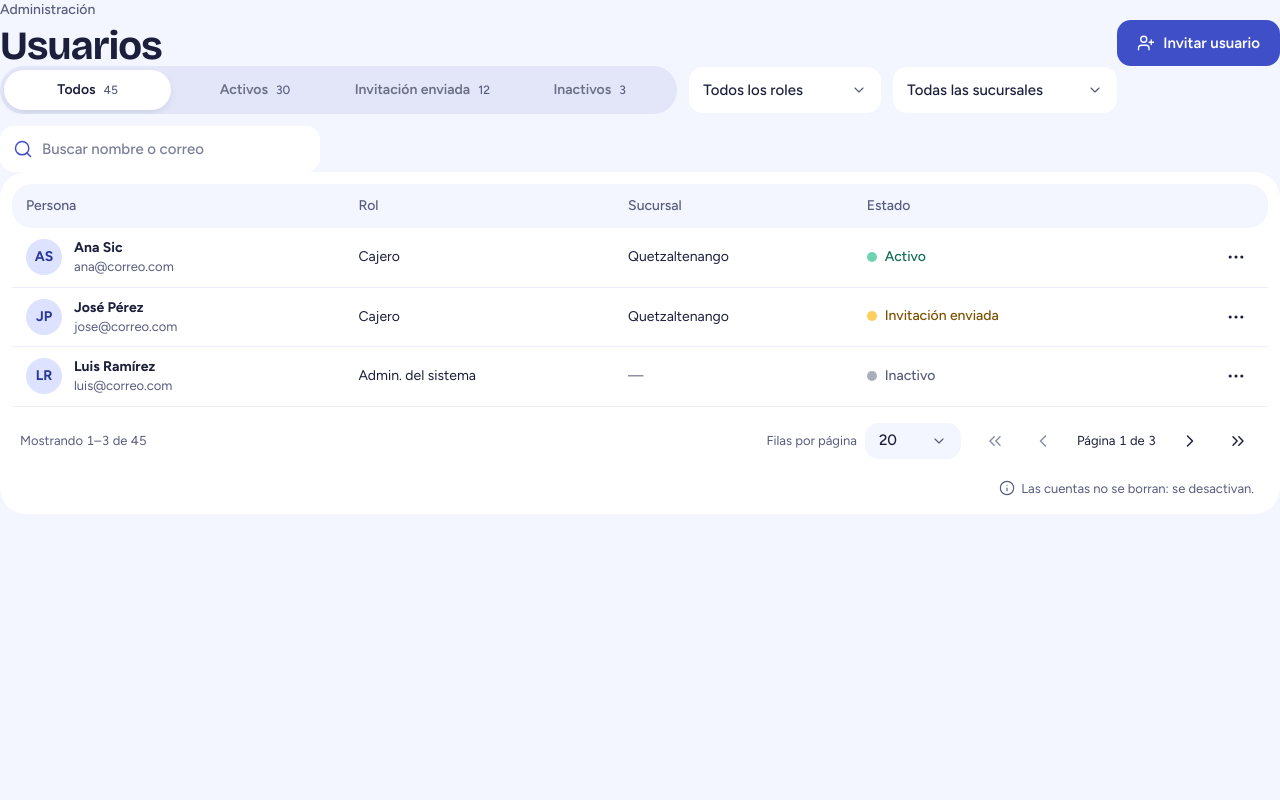
UsersScreen › lets a branch admin be invited to a closed branch
What coordinates should you click on to do the following:
click the button "Invitar usuario"
I would click on:
 (1199, 43)
Its box is [1117,20,1279,66].
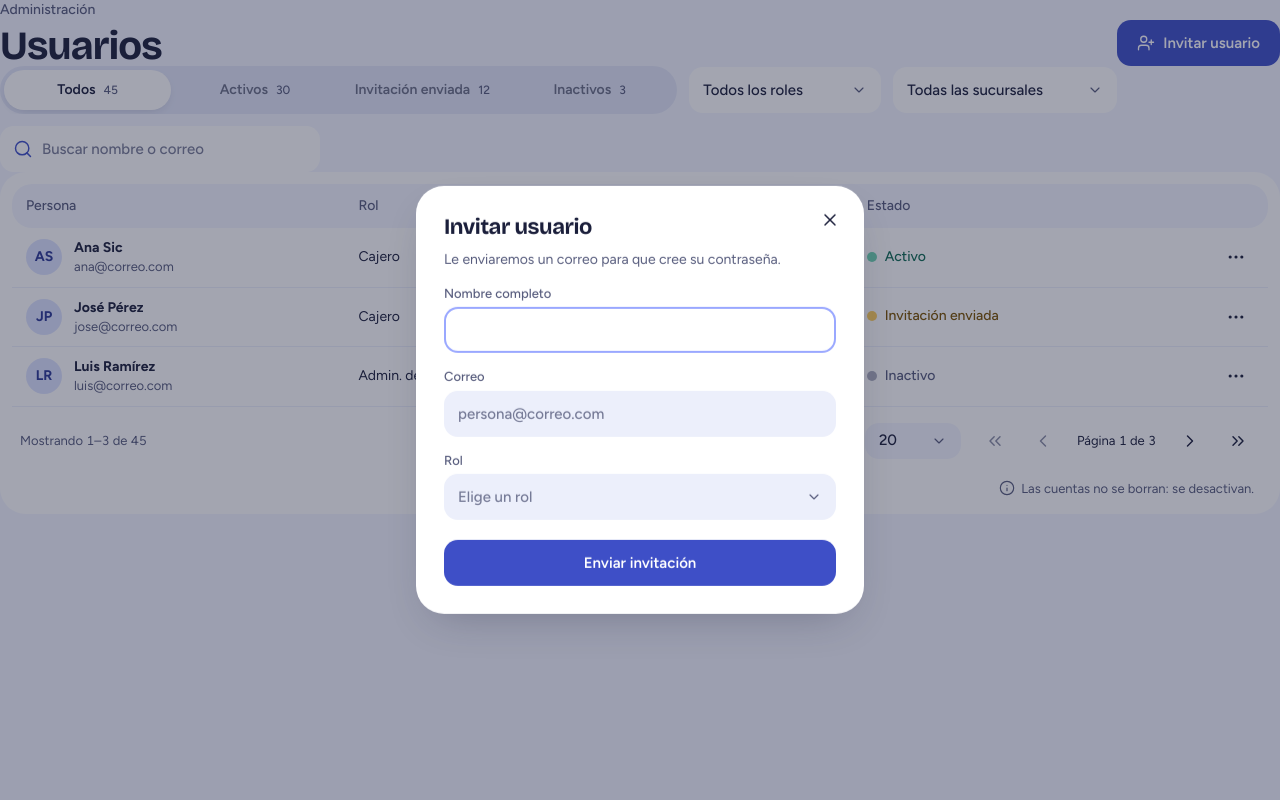
What coordinates should you click on to do the following:
click the dropdown labelled "rol"
I would click on:
 (495, 496)
Its box is [444,474,836,520].
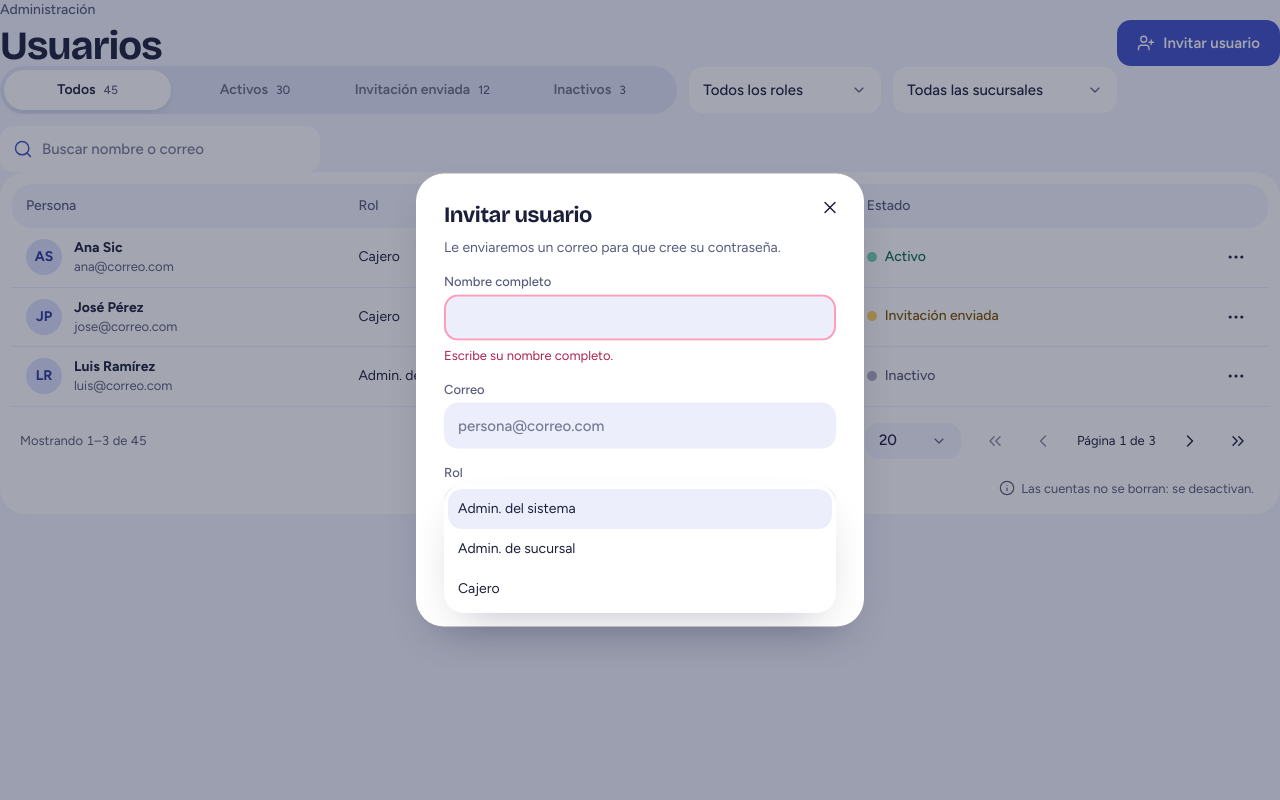
What coordinates should you click on to do the following:
click the option "Admin. de sucursal"
I would click on:
 (517, 549)
Its box is [458,540,575,557].
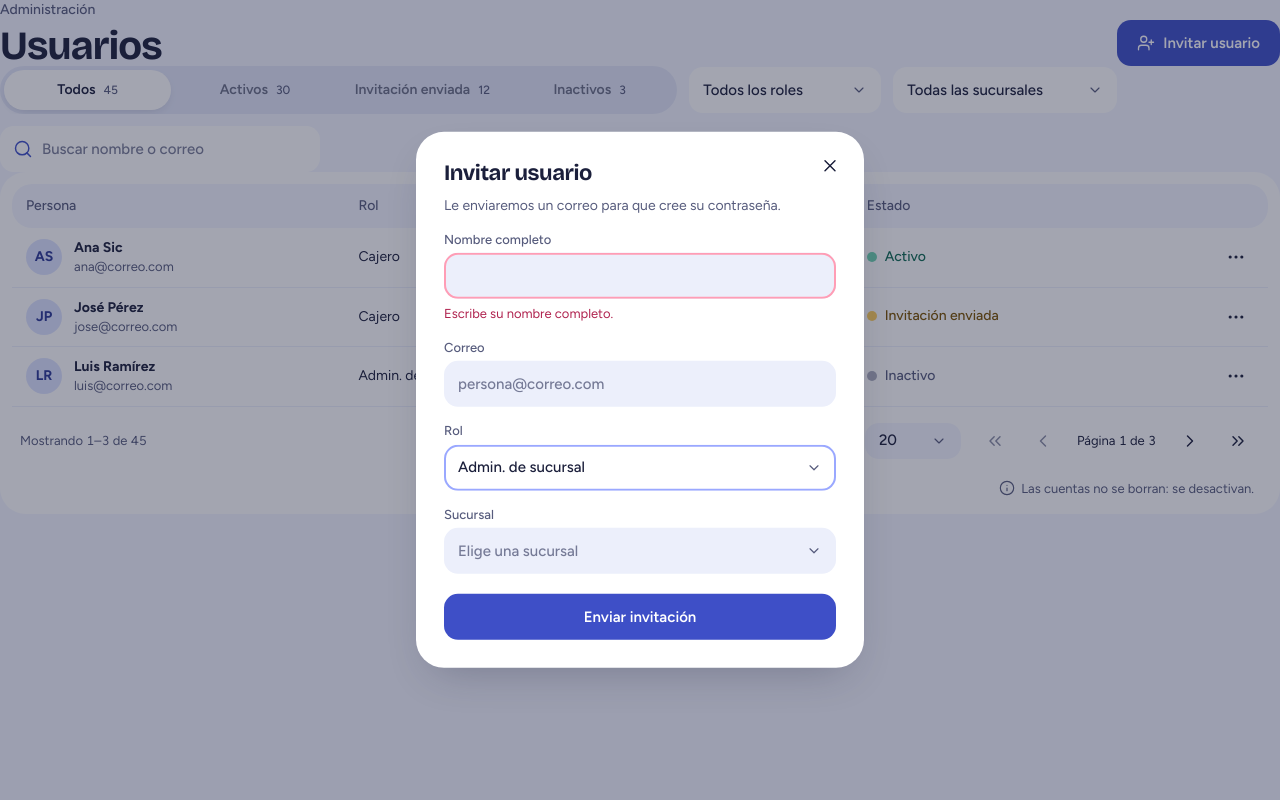
What coordinates should you click on to do the following:
click the dropdown labelled "sucursal"
I would click on:
 (518, 550)
Its box is [444,528,836,574].
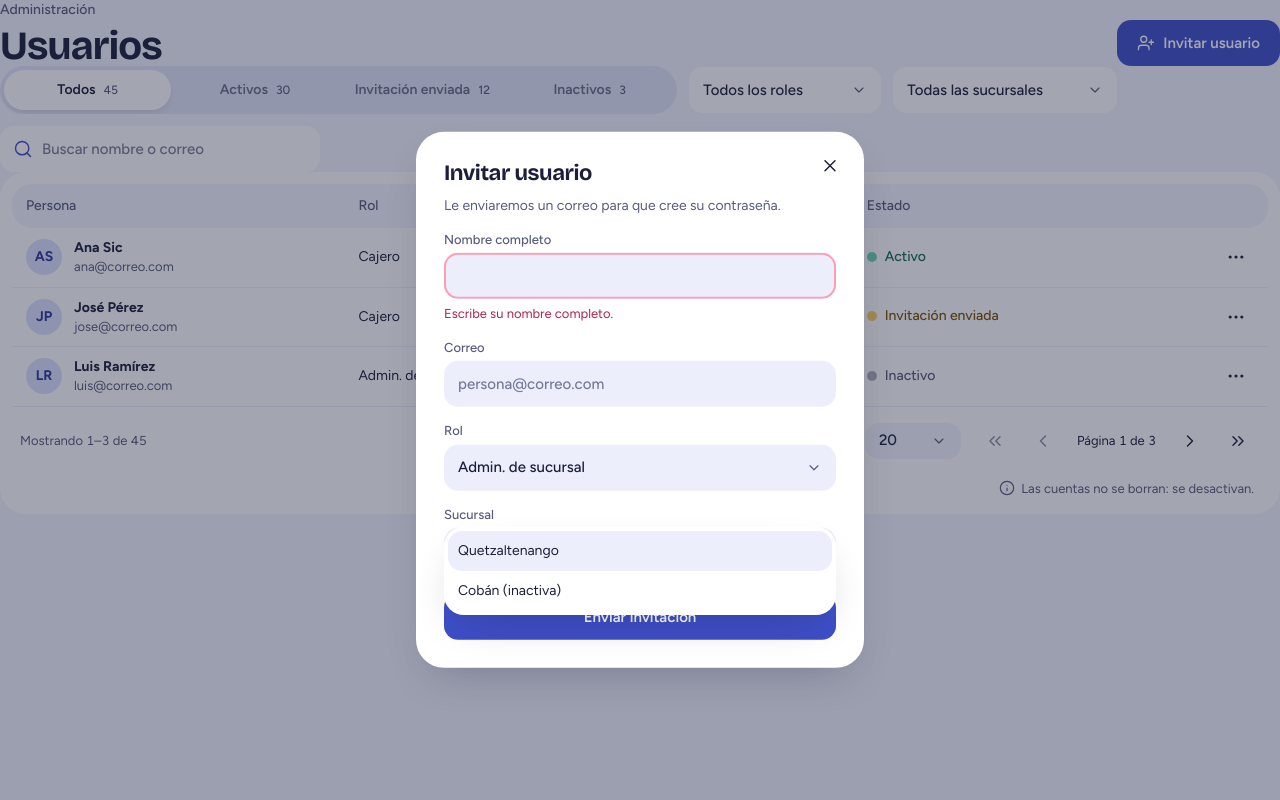
Now the option "Cobán (inactiva)" is shown, box [458,582,561,599]
